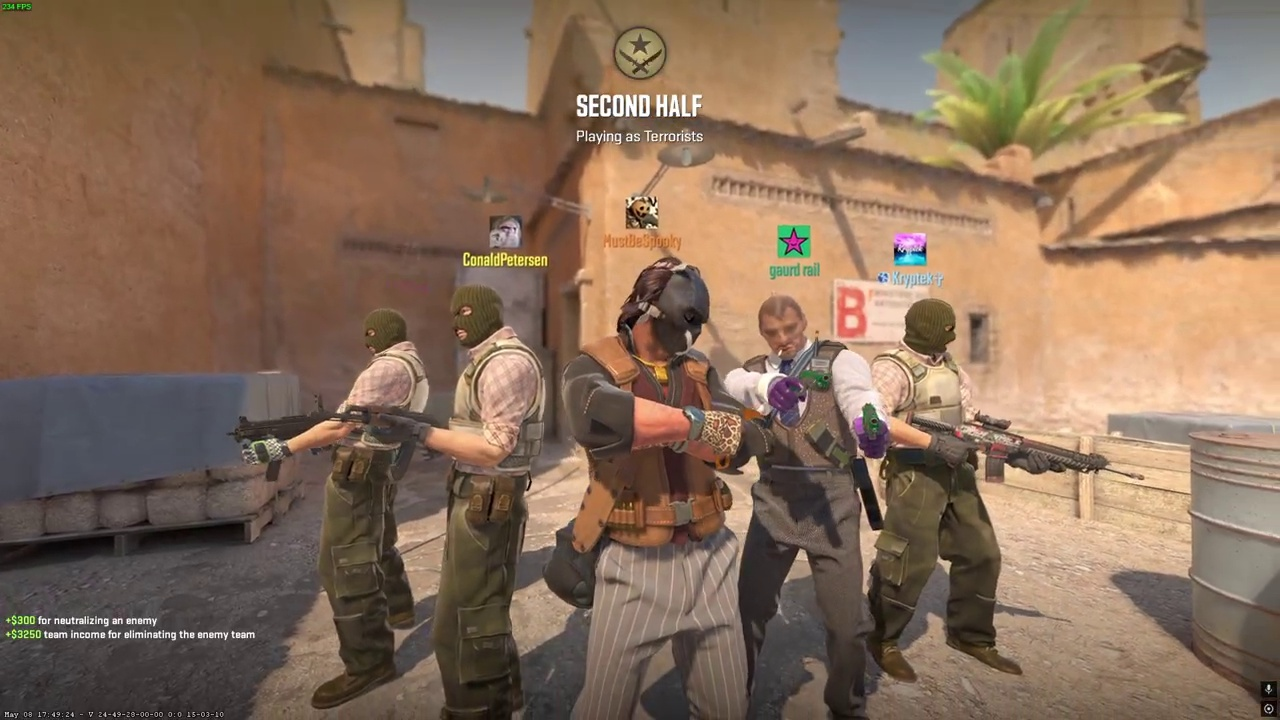Terrorist: (568, 258, 763, 719), (720, 292, 882, 720), (872, 298, 1023, 685), (279, 306, 424, 708), (425, 284, 550, 718)
